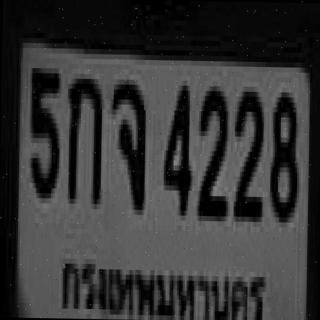A01: (66, 74, 100, 199)
A08: (108, 74, 144, 210)
N02: (195, 81, 226, 216), (232, 86, 262, 217)
N04: (161, 80, 190, 210)
N05: (28, 63, 59, 193)
N08: (268, 87, 297, 218)
P04: (54, 248, 274, 320)
